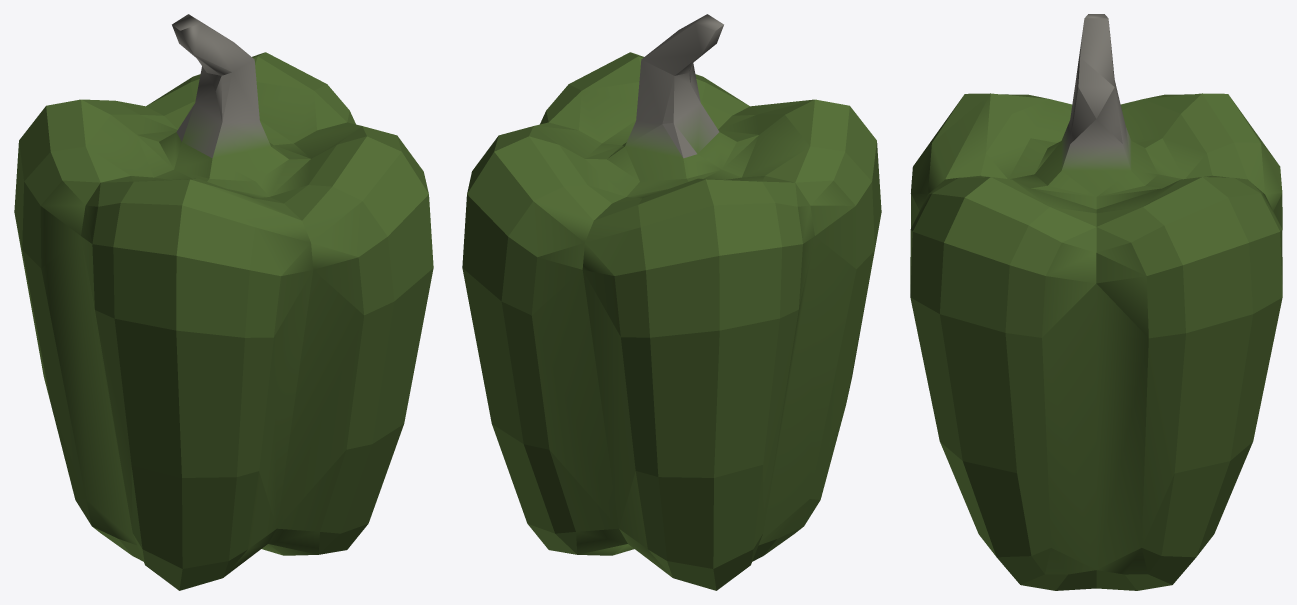
File: cc0-pepper-lod1.glb
3 renders of one model, left to right at view 1: azimuth 30°, elevation 25°; view 2: azimuth 150°, elevation 25°; view 3: azimuth 270°, elevation 25°, orthographic. The views are drawn at different scales.
Visible parts, largest first — view 1: part_0; view 2: part_0; view 3: part_0.
Boxes of the visible parts, x1,y1,x2,y2 form: part_0: (14, 14, 433, 590); part_0: (462, 14, 881, 590); part_0: (910, 14, 1282, 590).
Bounding box in the file's own units: 0.674 × 1.11 × 0.7118.
